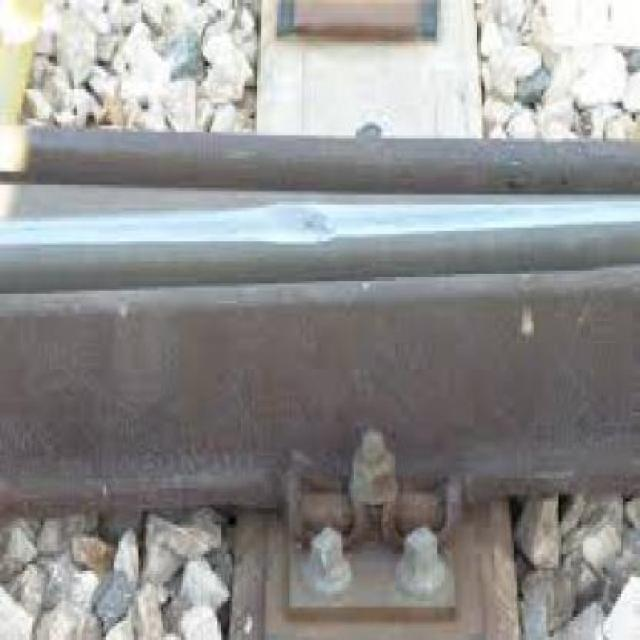non-defective: (9, 79, 640, 518)
